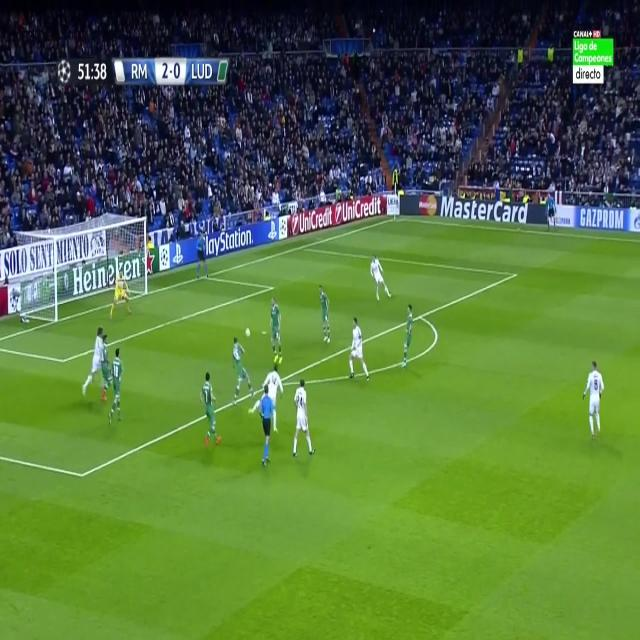Ball: (242, 322, 252, 343)
Goalkeeper: (108, 268, 132, 324)
Player: (578, 358, 608, 440), (291, 378, 315, 461), (200, 370, 224, 452), (79, 324, 105, 398), (346, 314, 371, 388), (230, 336, 256, 407), (368, 250, 394, 302), (396, 299, 414, 373), (109, 344, 125, 425), (268, 293, 284, 365), (318, 282, 332, 349), (262, 364, 284, 400)
Referee: (256, 383, 273, 472), (193, 231, 210, 285), (544, 190, 556, 233)
